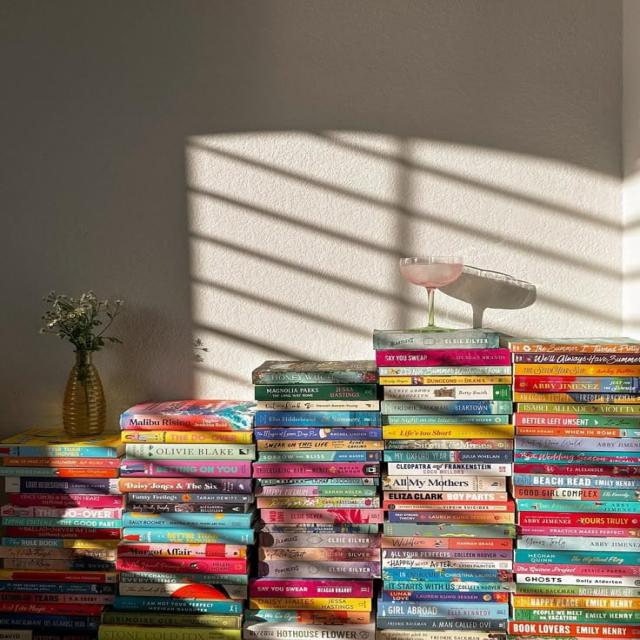book: (252, 360, 380, 384), (120, 413, 260, 431), (120, 527, 256, 545), (112, 594, 246, 612), (377, 602, 511, 620), (114, 569, 248, 587), (121, 512, 258, 529), (509, 550, 640, 567), (510, 375, 640, 392), (376, 350, 514, 366), (256, 532, 383, 549), (3, 477, 124, 494), (512, 473, 640, 489), (379, 400, 511, 415), (373, 618, 505, 633), (251, 411, 380, 426), (511, 415, 640, 430), (513, 437, 640, 452), (122, 431, 257, 445), (250, 449, 381, 463), (2, 505, 124, 520), (378, 334, 496, 349), (382, 450, 516, 463), (381, 463, 515, 476), (1, 516, 124, 530), (251, 428, 382, 441), (381, 548, 512, 561), (383, 414, 513, 427), (510, 364, 640, 377), (511, 403, 640, 416), (251, 478, 380, 491), (0, 581, 119, 595), (379, 366, 514, 378), (3, 446, 130, 458), (503, 343, 640, 354), (381, 375, 515, 386), (511, 353, 640, 364), (254, 401, 382, 412)
